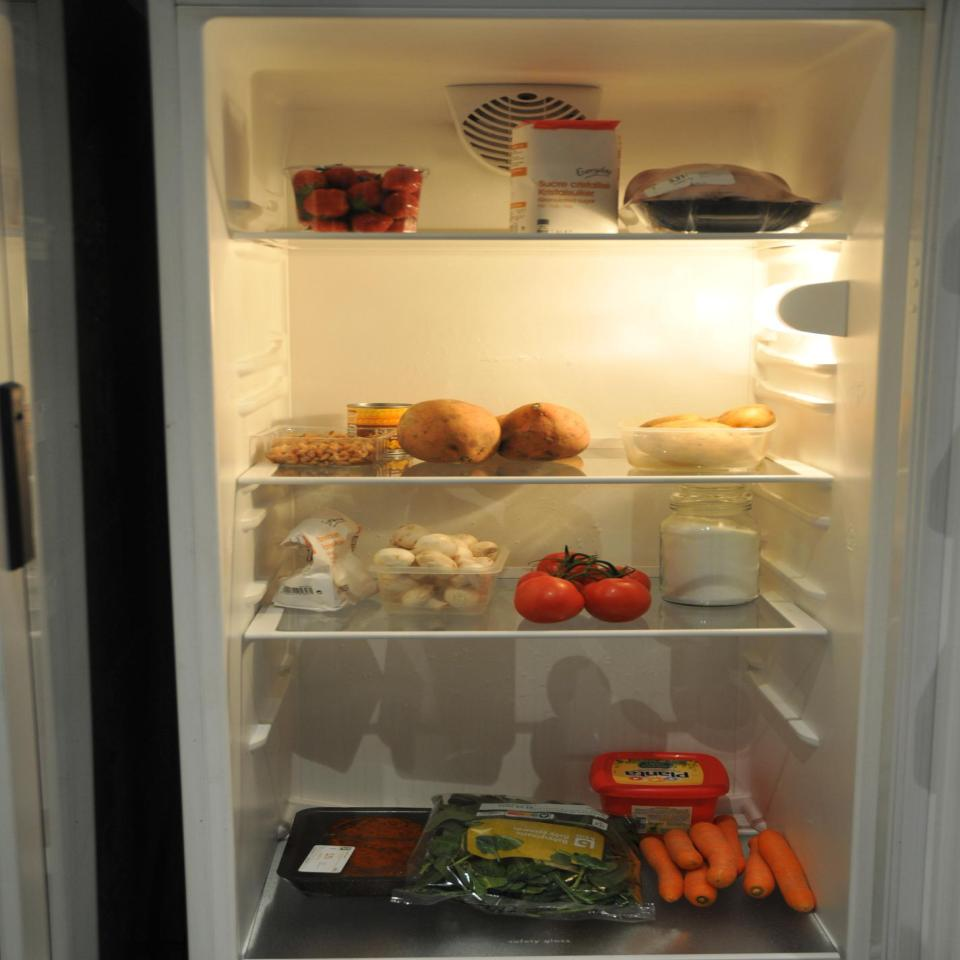Carne pollo: (621, 153, 822, 243)
Mantequilla: (586, 748, 732, 846)
Tomate: (502, 540, 664, 631)
Zanahoria: (628, 808, 832, 918)
